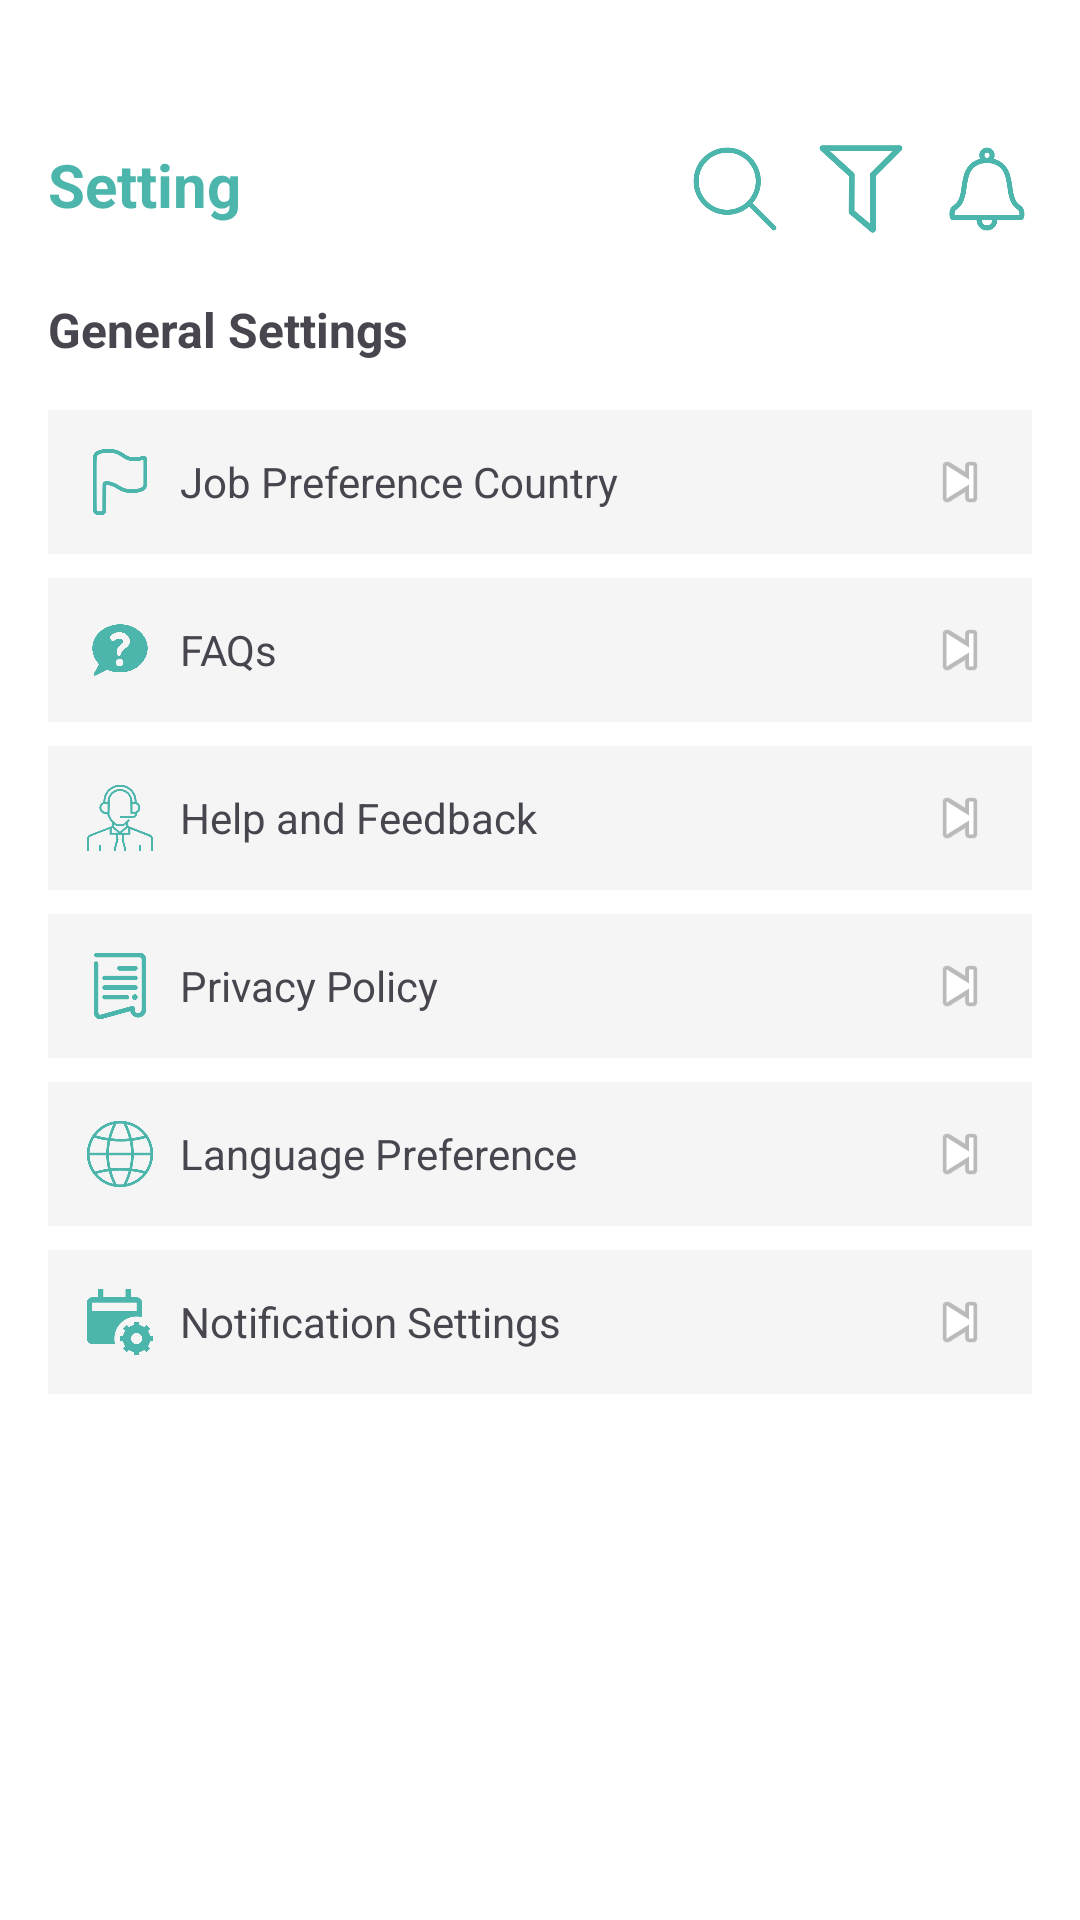

Where to tap for icons on this 1080*1920 app screen, as point (x, y):
faq: point (120, 650)
filter: point (861, 189)
next: point (960, 482), point (960, 650), point (960, 818), point (960, 986), point (960, 1154), point (960, 1322)
notification: point (987, 189)
search: point (735, 189)
